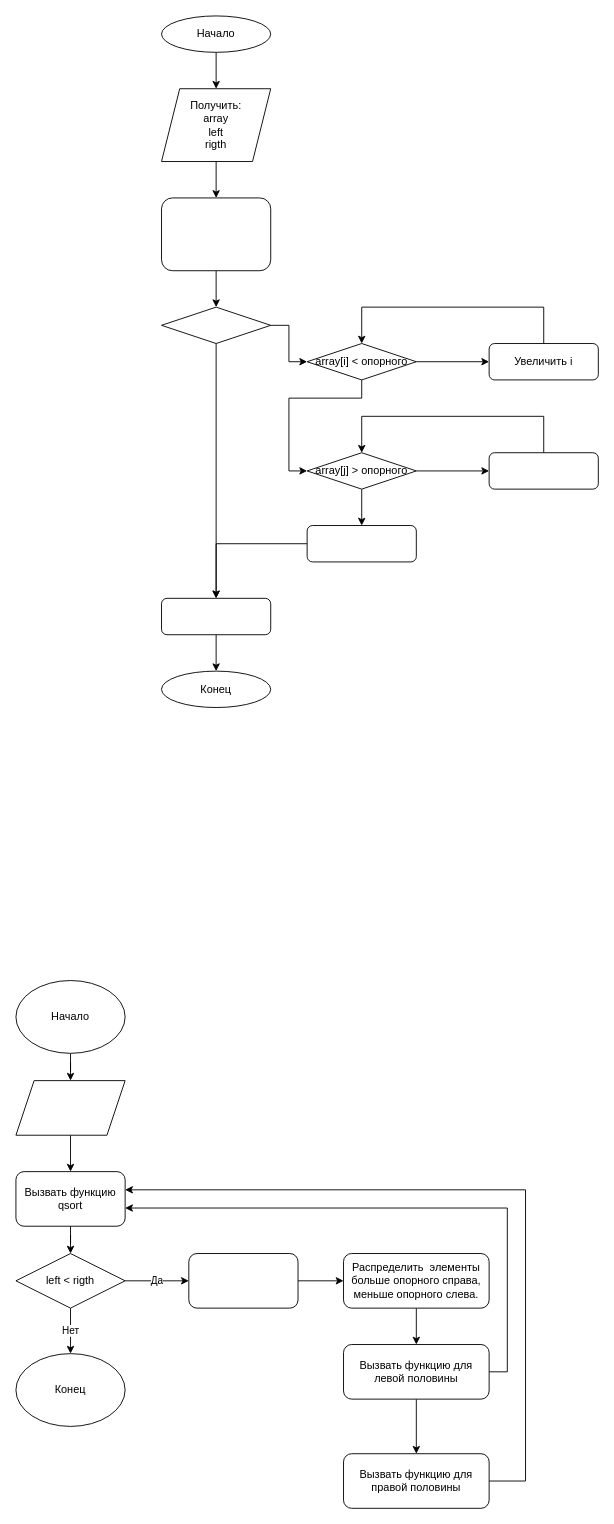
The diagram is 614 pixels wide and 1524 high, and some of its shapes have lost their labels. Here are the shapes that lost their labels. From the top down, the centre of each, then its label:
At [216,234]: "Выбрать опорный элемент и задать начальные i и j".
At [216,325]: "i <= j".
At [543,470]: "Увеличить j".
At [361,543]: "Поменять array[i] и array[j]".
At [216,616]: "Вернуть j".
At [70,1107]: "Задать: array left rigth".
At [243,1280]: "Выбрать опорный элемент".
